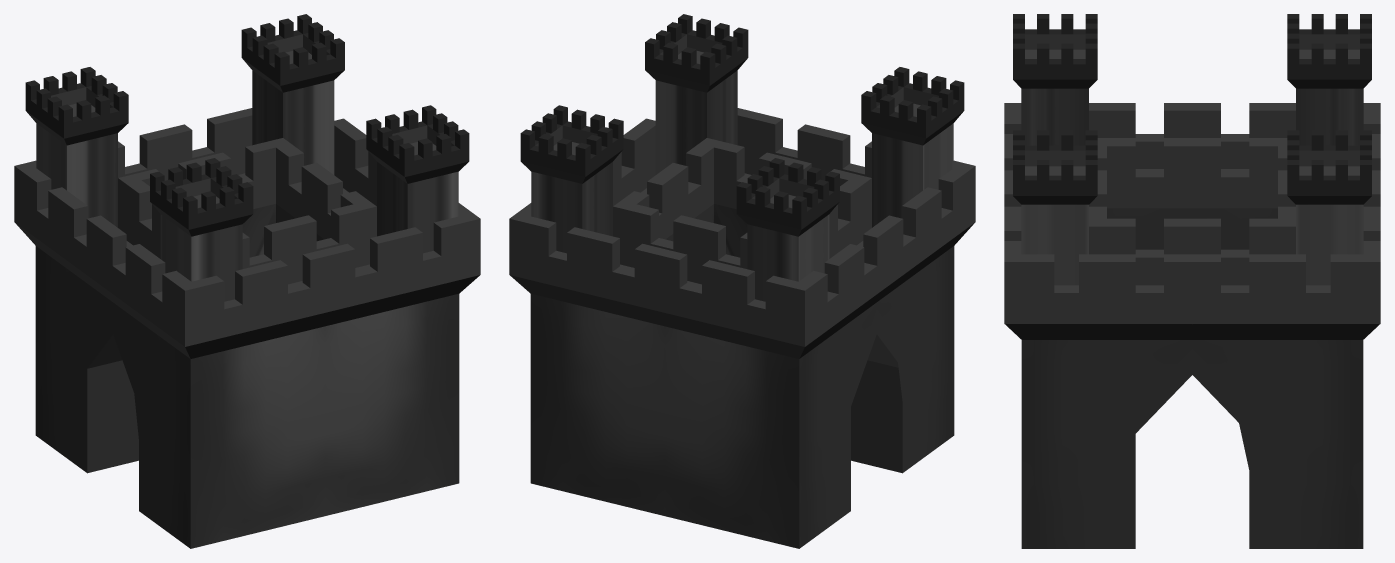
Rendered from Castle.fbx.
3 views of the same model, side by side, from view 1: azimuth 30°, elevation 25°; view 2: azimuth 150°, elevation 25°; view 3: azimuth 270°, elevation 25° (orthographic). The views are drawn at different scales.
Parts seen in each view (by area): view 1: Cube.001; view 2: Cube.001; view 3: Cube.001.
Part boxes in pixels (x1=…): Cube.001: x1=14, y1=14, x2=480, y2=548; Cube.001: x1=509, y1=14, x2=975, y2=548; Cube.001: x1=1004, y1=14, x2=1380, y2=548.
Size of the model in its own units: 220 by 250 by 220.
4 materials, 2 textured.
